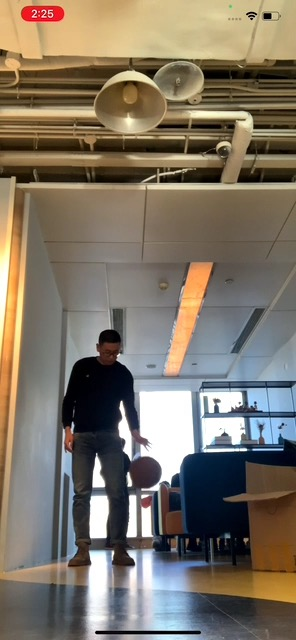ball: (129, 456, 160, 489)
